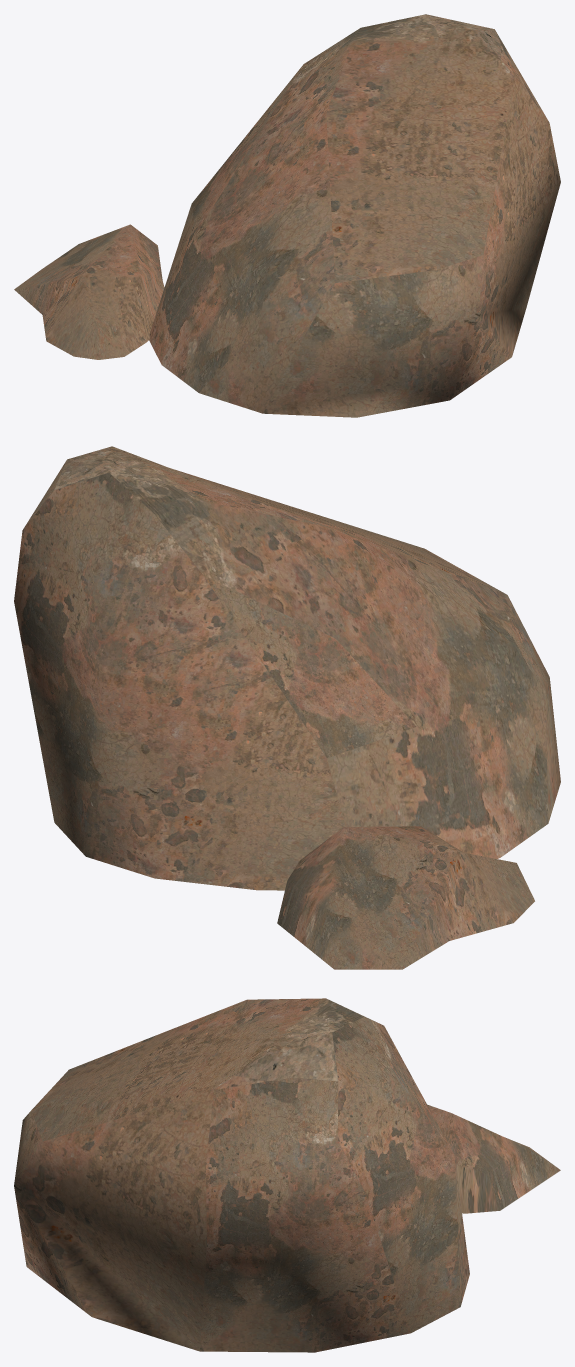
The model's file is mine_stonemine_savanna_small.glb.
The picture shows the model from 3 angles, top to bottom: view 1: azimuth 30°, elevation 25°; view 2: azimuth 150°, elevation 25°; view 3: azimuth 270°, elevation 25°; orthographic projection. The views are drawn at different scales.
Visible parts, largest first — view 1: mine_stonemine_savanna_small_part0; view 2: mine_stonemine_savanna_small_part0; view 3: mine_stonemine_savanna_small_part0.
Boxes of the visible parts, x1=… form: mine_stonemine_savanna_small_part0: x1=14, y1=14, x2=560, y2=417; mine_stonemine_savanna_small_part0: x1=14, y1=446, x2=560, y2=969; mine_stonemine_savanna_small_part0: x1=14, y1=998, x2=560, y2=1352.
Bounding box in the file's own units: 2.06 × 1.18 × 1.98.
Materials: 1 (1 with a texture image).
